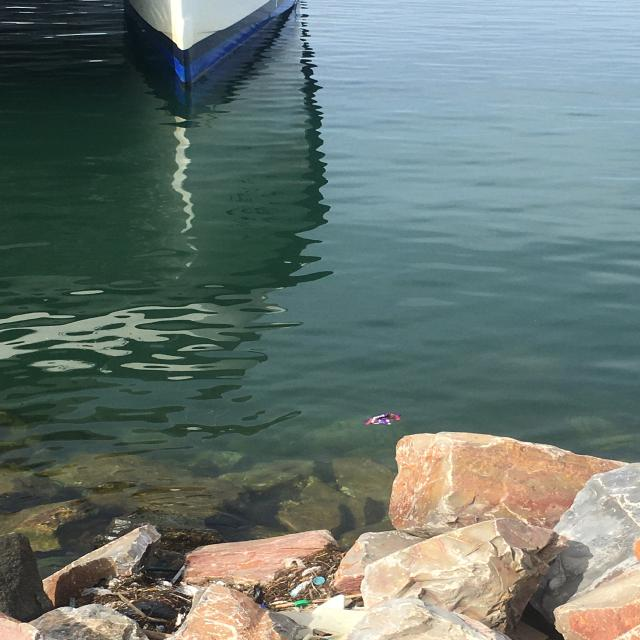Plastic packaging: (362, 412, 402, 426)
